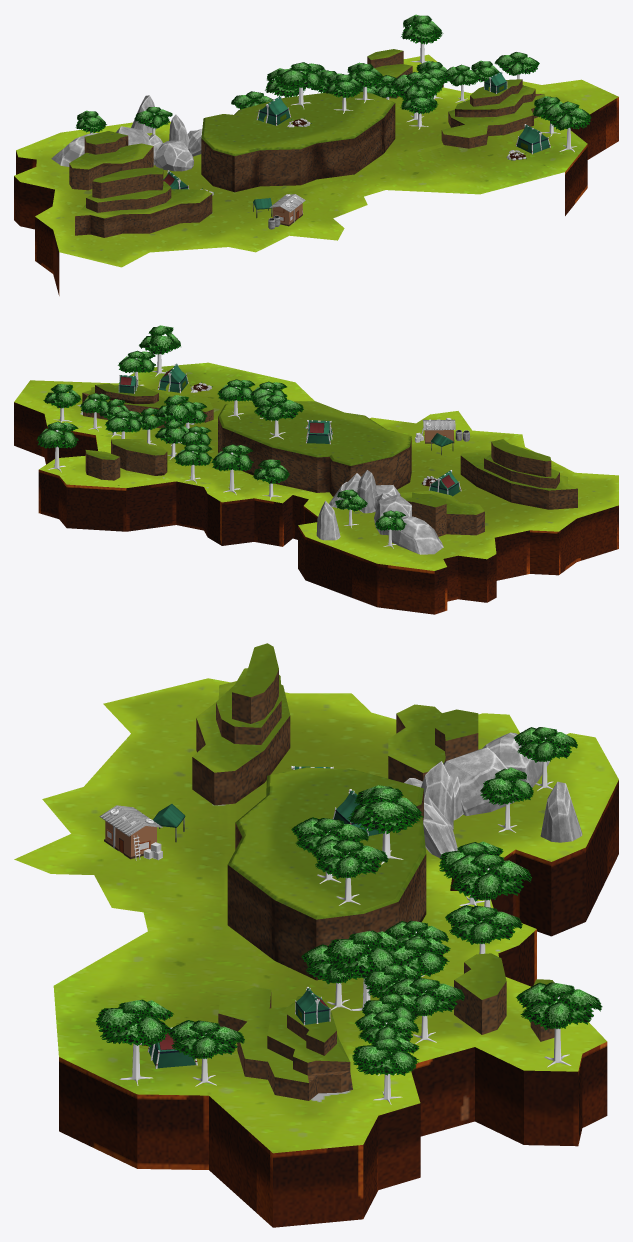
File: Upper.fbx
3 renders of one model, top to bottom at view 1: azimuth 30°, elevation 25°; view 2: azimuth 150°, elevation 25°; view 3: azimuth 270°, elevation 25°, orthographic. The views are drawn at different scales.
Visible parts, largest first — view 1: upper, upper.003, tree.040, tree.022, tree.014, Cube.2171, tree.010, Cube.1464, tree.021, tree.009, tree.067, tree.016 (+13 smaller); view 2: upper, upper.003, Cube.2034, tree.022, tree.018, tree.014, tree.040, Cube.1464, tree.010, tree.012, tree.013, tree.009 (+16 smaller); view 3: upper, upper.003, tree.014, tree.040, tree.018, tree.022, tree.010, Cube.1464, Cube.2031, tree.039, tree.067, tree.009 (+18 smaller).
Part boxes in pixels (x1,y1,x2,y2): upper: (14, 54, 618, 295); upper.003: (69, 49, 544, 237); tree.040: (543, 101, 591, 151); tree.022: (278, 62, 325, 108); tree.014: (401, 14, 443, 63); Cube.2171: (153, 140, 193, 171); tree.010: (390, 72, 438, 121); Cube.1464: (268, 194, 305, 229); tree.021: (325, 73, 362, 113); tree.009: (494, 52, 539, 85); tree.067: (347, 62, 383, 102); tree.016: (400, 90, 438, 129); upper: (14, 362, 618, 614); upper.003: (82, 383, 577, 536); Cube.2034: (391, 516, 443, 554); tree.022: (252, 394, 303, 439); tree.018: (211, 444, 253, 494); tree.014: (36, 421, 78, 472); tree.040: (139, 325, 180, 376); Cube.1464: (415, 418, 469, 443); tree.010: (155, 395, 196, 445); tree.012: (174, 444, 212, 483); tree.013: (252, 459, 289, 499); tree.009: (43, 384, 81, 422); upper: (14, 678, 618, 1227); upper.003: (192, 643, 554, 1100); tree.014: (516, 982, 602, 1067); tree.040: (95, 999, 173, 1085); tree.018: (446, 853, 531, 907); tree.022: (347, 785, 423, 864); tree.010: (326, 930, 403, 1010); Cube.1464: (99, 805, 162, 860); Cube.2031: (443, 747, 514, 815); tree.039: (167, 1020, 244, 1086); tree.067: (310, 839, 388, 905); tree.009: (352, 1037, 419, 1104).
Bounding box in the file's own units: 3453 × 697 × 1859.
